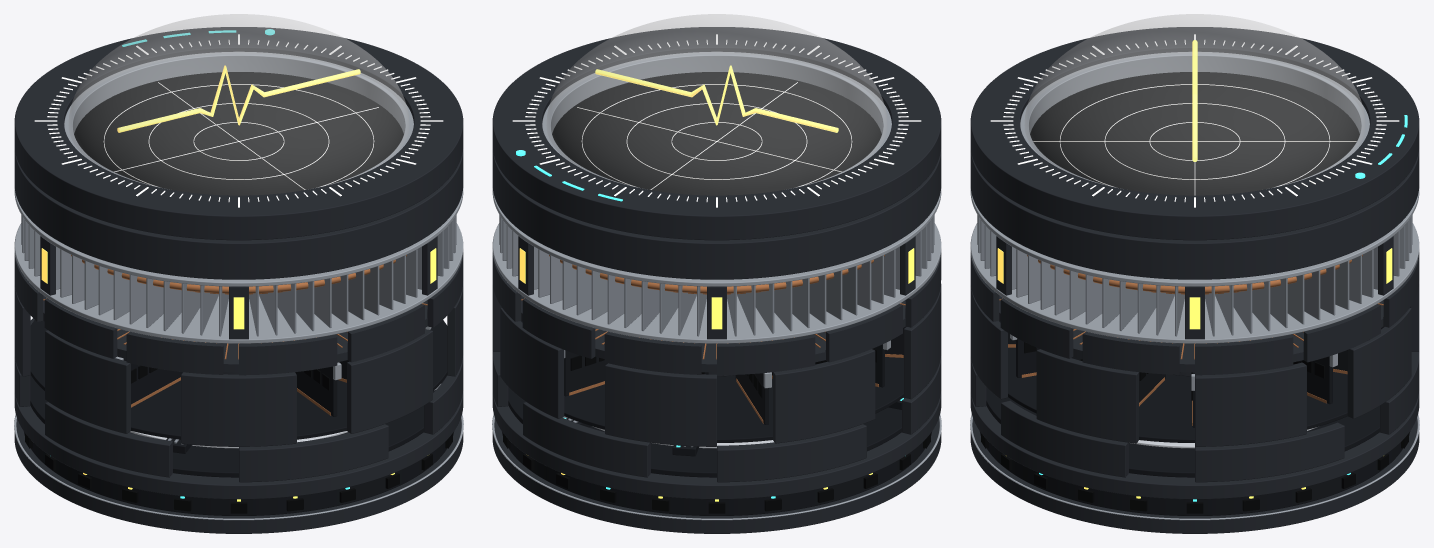
The model's file is observatory.glb.
The picture shows the model from 3 angles, left to right: view 1: azimuth 30°, elevation 25°; view 2: azimuth 150°, elevation 25°; view 3: azimuth 270°, elevation 25°; orthographic projection.
Parts seen in each view (by area): view 1: lens_dome_glass, lens_anodized, lens_black, mem_anodized, fan_anodized, net_anodized, gpu_alu, cpu_anodized, disk_anodized, gpu_steel, lens_steel, mem_graphite (+10 smaller); view 2: lens_dome_glass, lens_anodized, lens_black, mem_anodized, fan_anodized, net_anodized, gpu_alu, cpu_anodized, disk_anodized, gpu_steel, lens_steel, mem_graphite (+10 smaller); view 3: lens_dome_glass, lens_anodized, lens_black, mem_anodized, fan_anodized, net_anodized, gpu_alu, cpu_anodized, disk_anodized, gpu_steel, lens_steel, mem_graphite (+10 smaller).
Part boxes in pixels (<box>): lens_dome_glass: <box>68,14,409,195</box>; lens_anodized: <box>14,27,463,240</box>; lens_black: <box>74,72,403,195</box>; mem_anodized: <box>14,280,463,446</box>; fan_anodized: <box>14,149,463,279</box>; net_anodized: <box>14,391,463,533</box>; gpu_alu: <box>21,215,456,336</box>; cpu_anodized: <box>14,252,463,375</box>; disk_anodized: <box>14,318,463,482</box>; gpu_steel: <box>14,188,463,343</box>; lens_steel: <box>64,51,413,189</box>; mem_graphite: <box>30,320,447,439</box>; lens_dome_glass: <box>546,14,887,195</box>; lens_anodized: <box>492,27,941,240</box>; lens_black: <box>552,72,881,195</box>; mem_anodized: <box>492,284,941,446</box>; fan_anodized: <box>492,149,941,279</box>; net_anodized: <box>492,391,941,533</box>; gpu_alu: <box>499,215,934,336</box>; cpu_anodized: <box>492,252,941,375</box>; disk_anodized: <box>492,352,941,482</box>; gpu_steel: <box>492,188,941,343</box>; lens_steel: <box>542,51,891,189</box>; mem_graphite: <box>521,320,906,442</box>; lens_dome_glass: <box>1024,14,1365,195</box>; lens_anodized: <box>970,27,1419,240</box>; lens_black: <box>1030,72,1359,195</box>; mem_anodized: <box>970,280,1419,446</box>; fan_anodized: <box>970,149,1419,279</box>; net_anodized: <box>970,391,1419,533</box>; gpu_alu: <box>977,215,1412,336</box>; cpu_anodized: <box>970,252,1419,375</box>; disk_anodized: <box>970,352,1419,482</box>; gpu_steel: <box>970,189,1419,343</box>; lens_steel: <box>1020,51,1369,189</box>; mem_graphite: <box>999,320,1384,442</box>.
Bounding box in the file's own units: 2 × 1.96 × 2.
